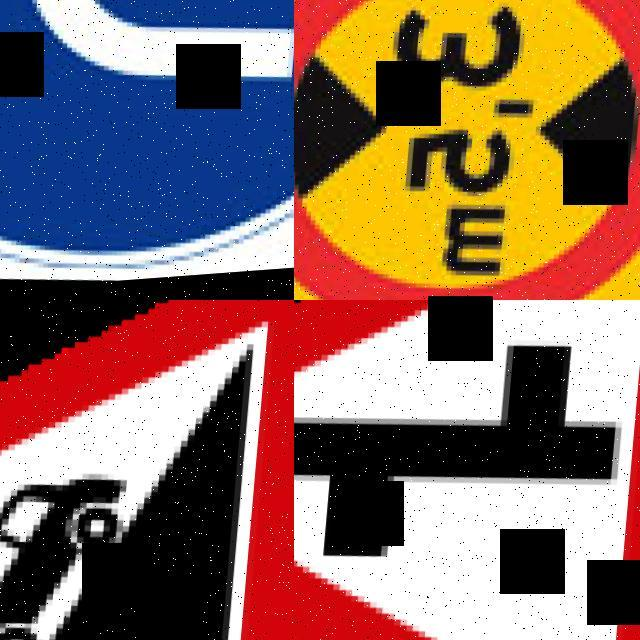82: (294, 0, 640, 300)
Staggered side road junction: (294, 300, 640, 640)
Steep ascent: (0, 300, 294, 640)
Turn left: (0, 0, 294, 300)
